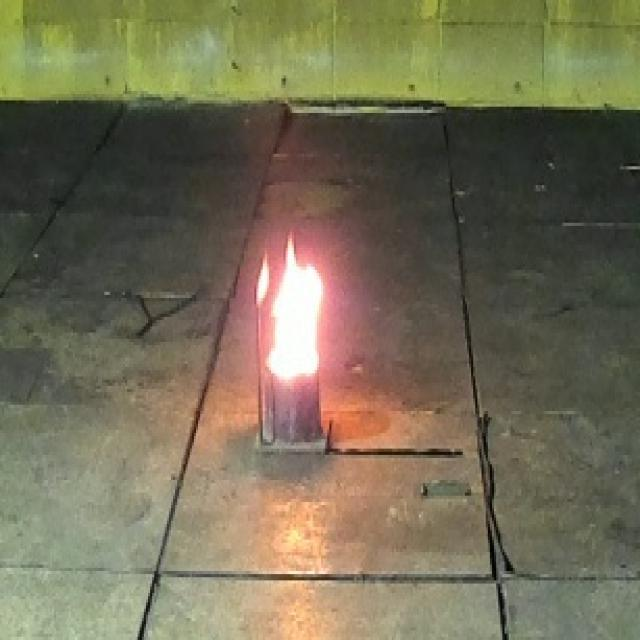Fire: (256, 229, 324, 382)
